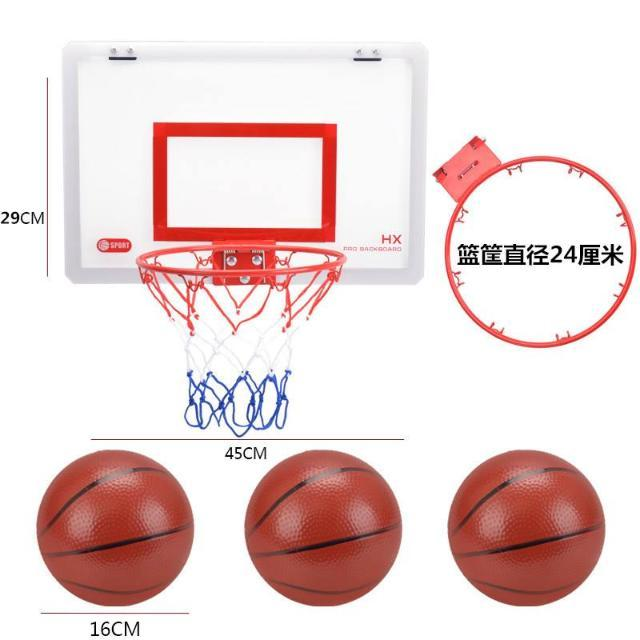basketball: (247, 449, 401, 607), (450, 448, 604, 606), (40, 449, 192, 605)
rim: (136, 242, 346, 428)
